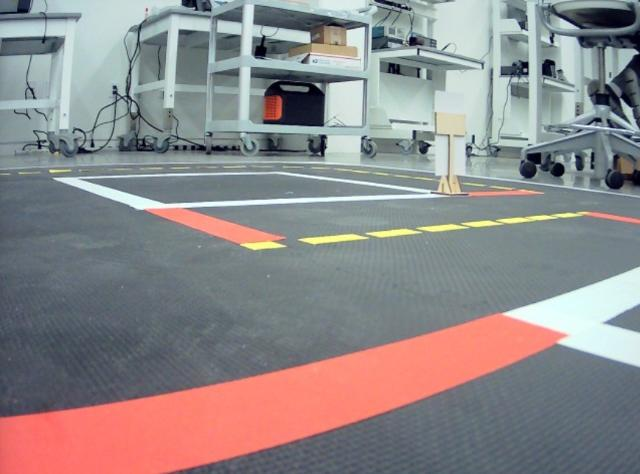redline: (0, 309, 569, 474), (146, 207, 285, 245), (587, 212, 640, 224), (468, 190, 541, 197)
whiteline: (503, 310, 640, 370), (501, 265, 640, 322), (170, 195, 451, 209), (54, 176, 168, 209), (275, 171, 440, 193), (53, 172, 279, 178)
yellowline: (243, 210, 588, 252), (332, 167, 517, 189), (1, 165, 330, 176)
